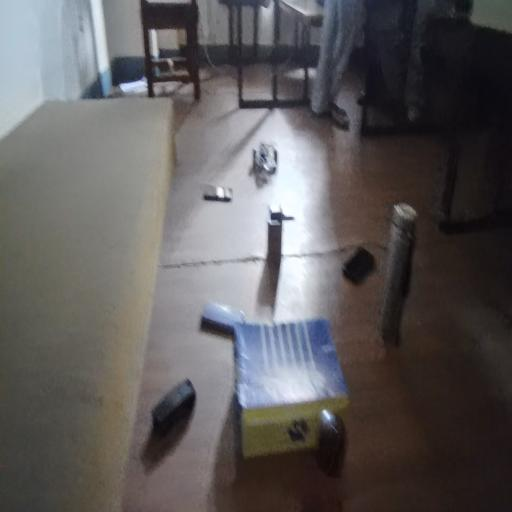car: (249, 132, 283, 191)
